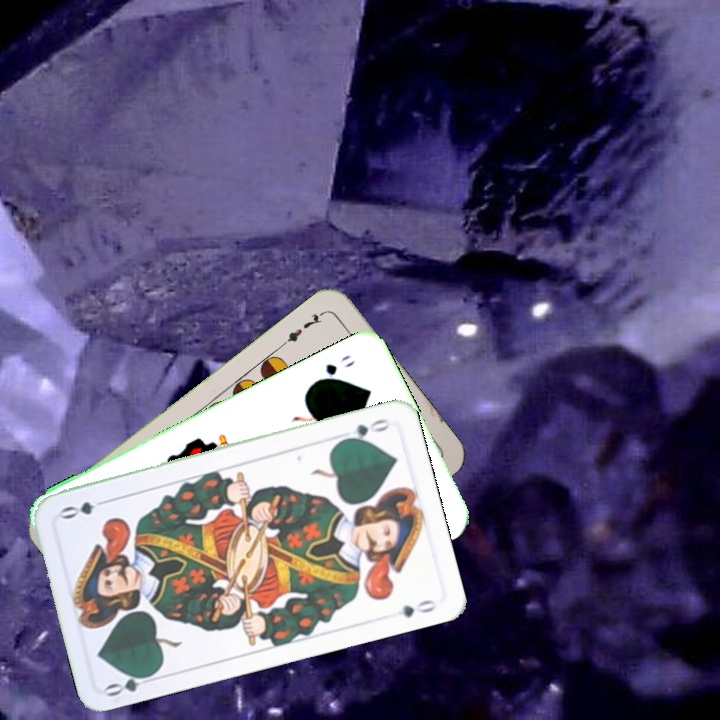E7: (278, 307, 328, 349)
GO: (101, 668, 160, 700), (310, 350, 359, 386), (336, 415, 393, 444)
